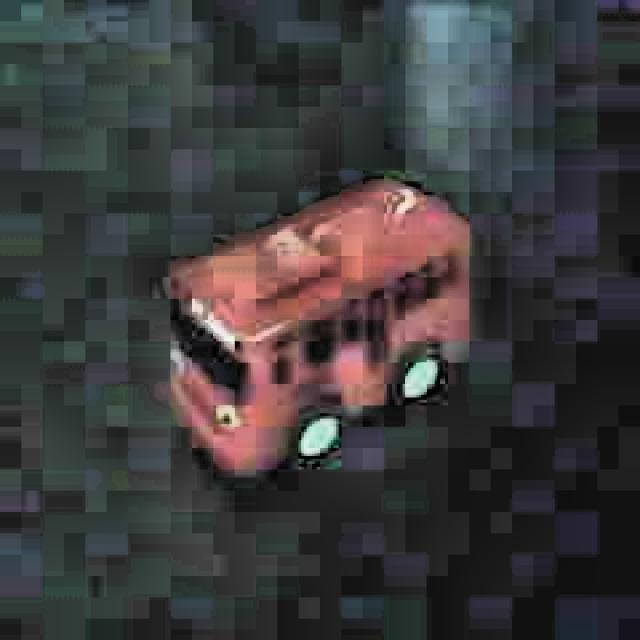bus: (153, 164, 484, 502)
